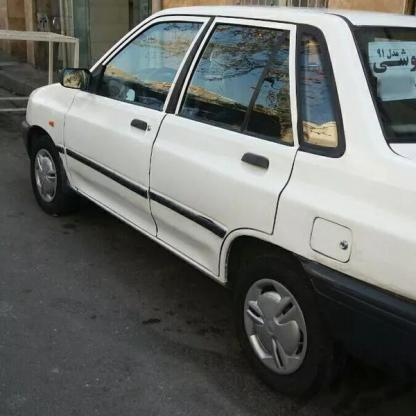Car: (5, 0, 416, 400)
